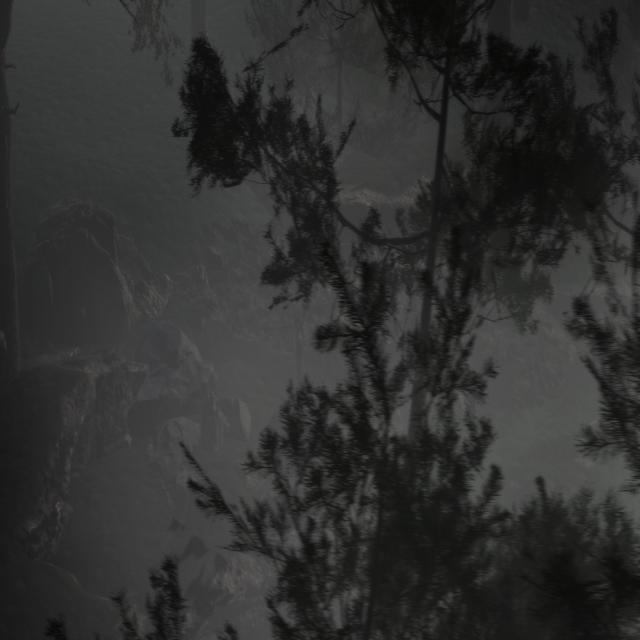Human: (285, 297, 309, 412)
